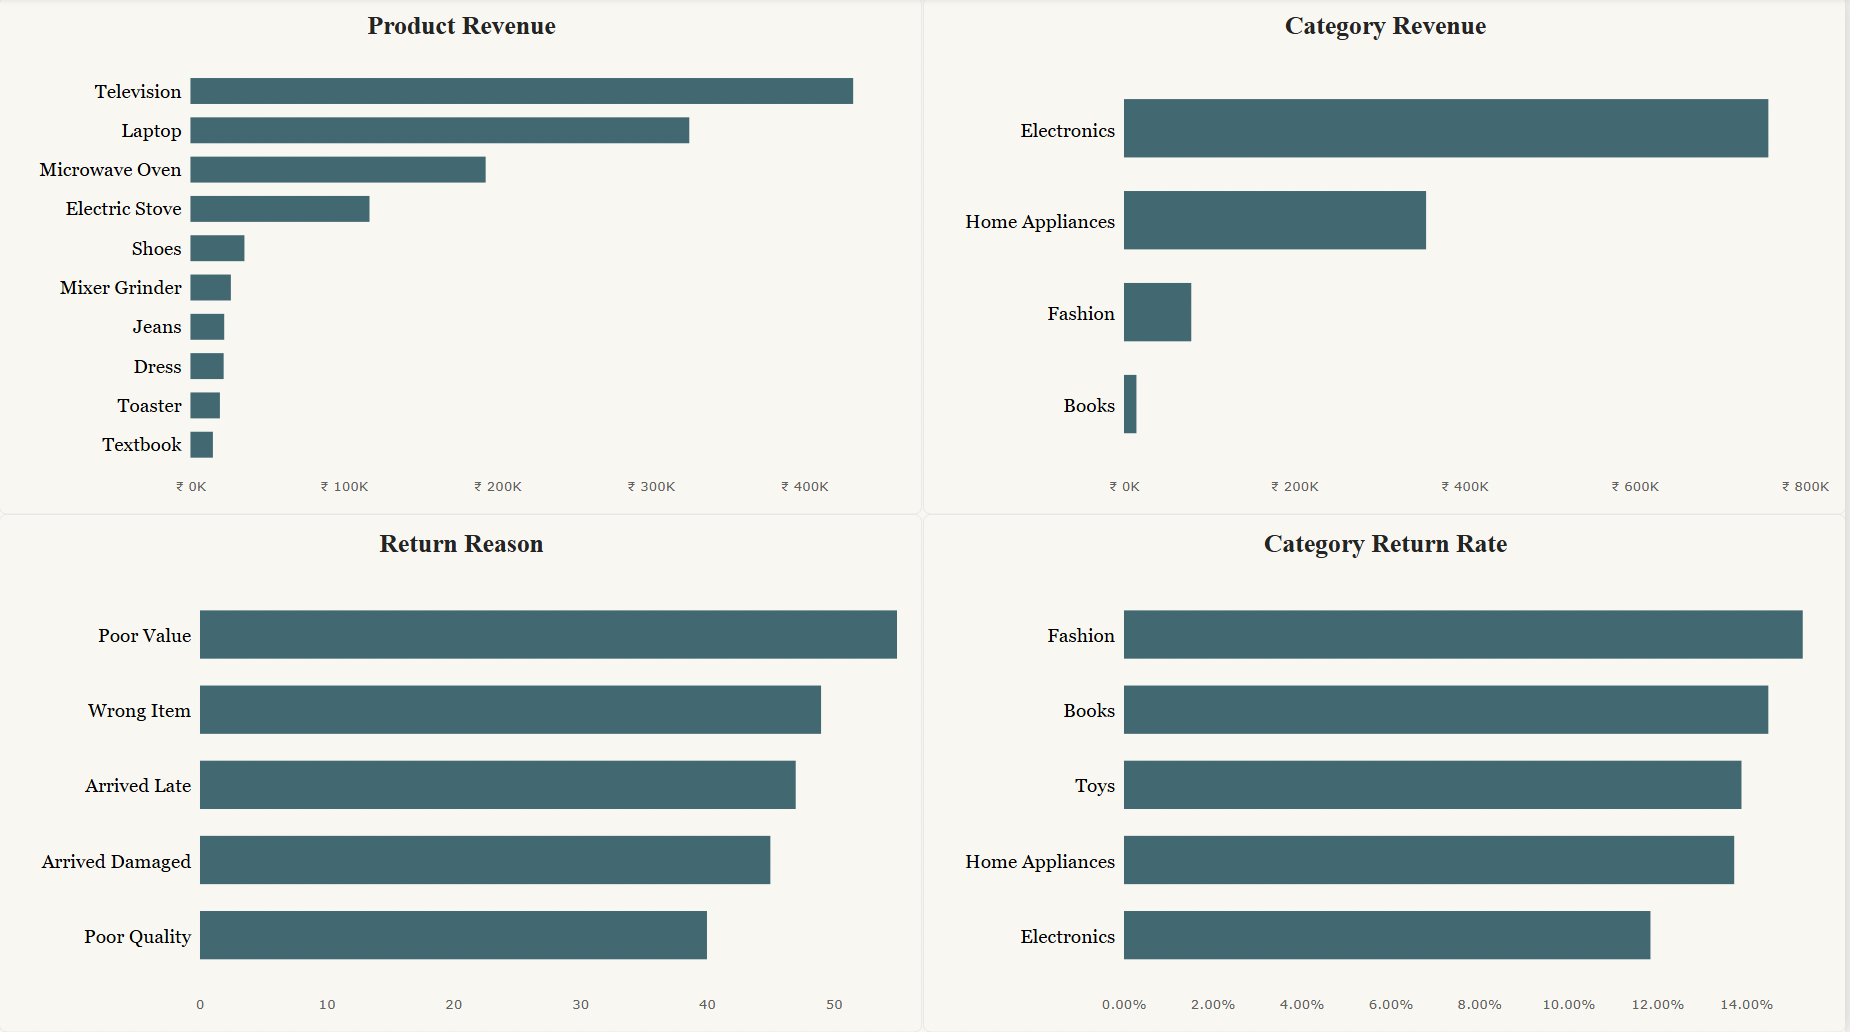

This screenshot's page, from the dashboard's own definition file:
{"tool":"powerbi","page":{"name":"Products & Returns","canvas":[1920,1080],"ordinal":2},"visuals":[{"type":"clusteredBarChart","title":"Product Revenue","fields":{"Category":["CustomerData.Product"],"Y":["CustomerData.Total Revenue"]},"box":[0,0,960.5,539.5],"z":0},{"type":"clusteredBarChart","title":"Category Revenue","fields":{"Category":["CustomerData.Category"],"Y":["CustomerData.Total Revenue"]},"box":[960.5,0,960.5,539.5],"z":1},{"type":"clusteredBarChart","title":"Return Reason","fields":{"Category":["CustomerData.ReturnReason"],"Y":["CustomerData.Total Returns"]},"box":[0,539.5,960.5,539.5],"z":2},{"type":"clusteredBarChart","title":"Category Return Rate","fields":{"Category":["CustomerData.Category"],"Y":["CustomerData.Return Rate"]},"box":[960.5,539.5,960.5,539.5],"z":3}]}

Visuals, with their boxes in screenshot pixels (x1, y1, x2, y2), scaled from the page's 1920x1080 canvas onto the 1850x1032 screenshot:
"Product Revenue" clusteredBarChart: 0, 0, 925, 516
"Category Revenue" clusteredBarChart: 925, 0, 1849, 516
"Return Reason" clusteredBarChart: 0, 516, 925, 1031
"Category Return Rate" clusteredBarChart: 925, 516, 1849, 1031
